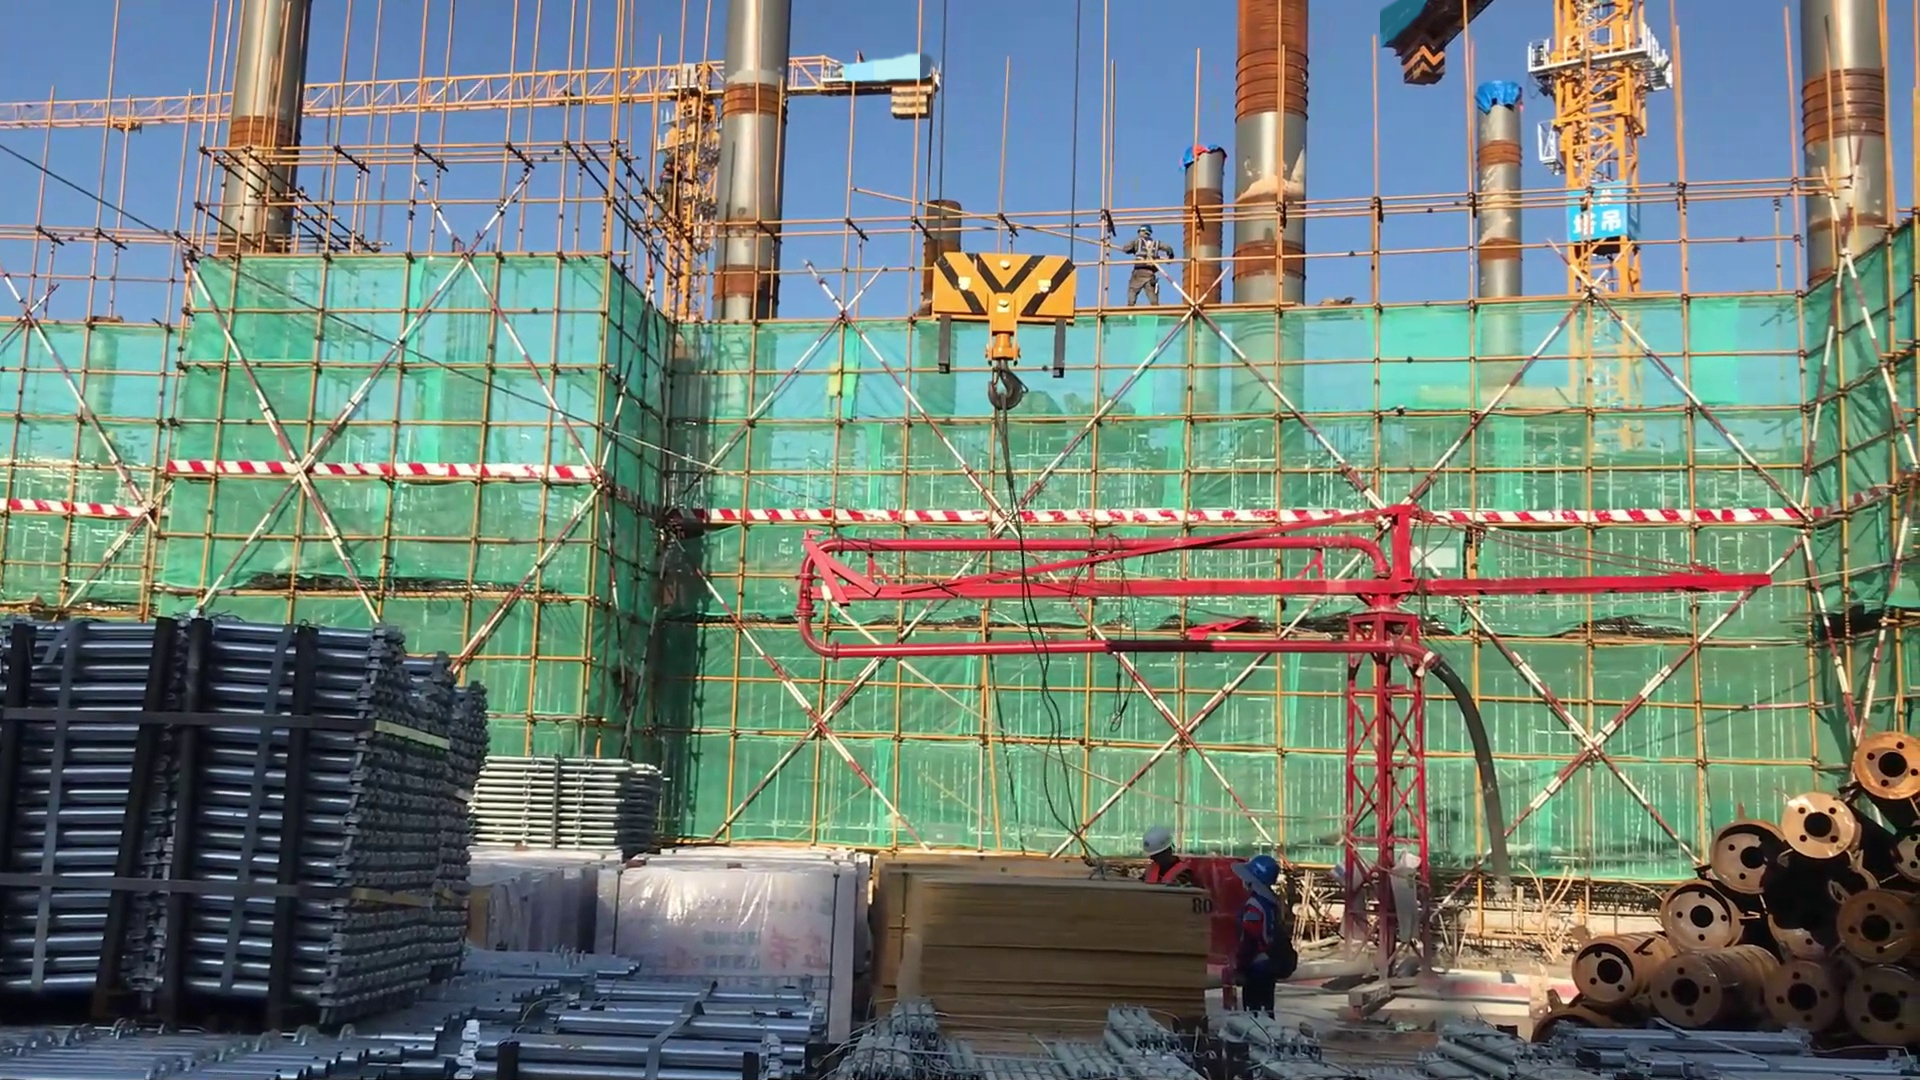board: (865, 855, 1208, 1048)
helmet: (1238, 855, 1291, 898), (1133, 827, 1179, 865), (1133, 224, 1156, 240)
hook: (922, 226, 1084, 412)
person: (1229, 852, 1300, 1027), (1080, 828, 1203, 894), (1111, 217, 1174, 309)
scaffold: (1, 588, 483, 990), (1, 948, 629, 1074), (836, 989, 1276, 1077), (527, 971, 830, 1080), (1430, 1010, 1920, 1078), (447, 737, 665, 844)
slogan: (1575, 187, 1634, 256)
vest: (1238, 891, 1296, 992), (1139, 862, 1191, 891), (1131, 240, 1161, 271)
